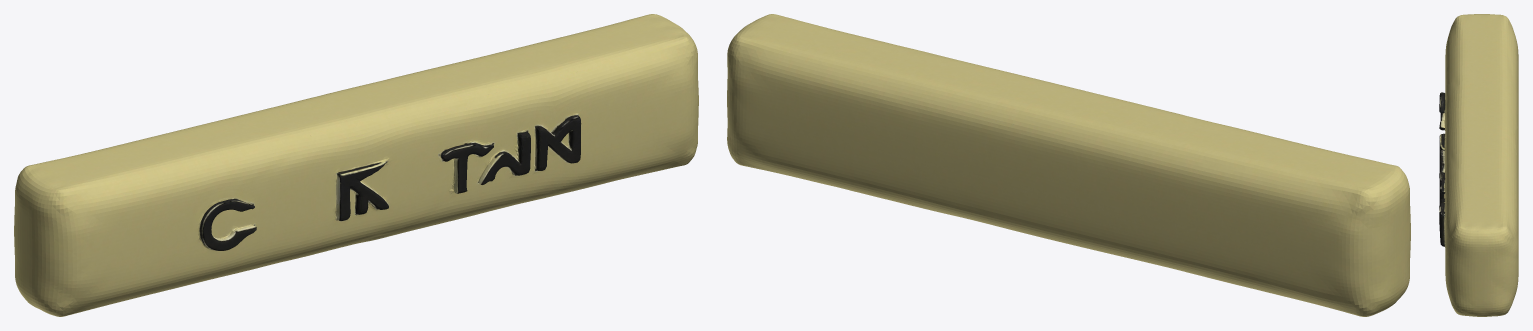
The model's file is name_tag_standard.glb.
3 renders of one model, left to right at view 1: azimuth 30°, elevation 25°; view 2: azimuth 150°, elevation 25°; view 3: azimuth 270°, elevation 25°, orthographic. The views are drawn at different scales.
Visible parts, largest first — view 1: accessory; view 2: accessory; view 3: accessory.
Part boxes in pixels (left/top/right/bottom): accessory: left=14, top=14, right=698, bottom=316; accessory: left=727, top=14, right=1410, bottom=316; accessory: left=1439, top=14, right=1518, bottom=316.
Bounding box in the file's own units: 0.09 × 0.0167 × 0.0136.
Materials: 1 (1 with a texture image).
